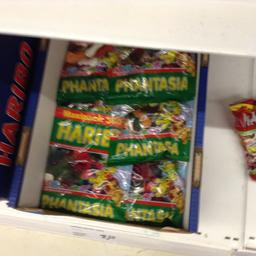candy: (42, 39, 191, 223)
